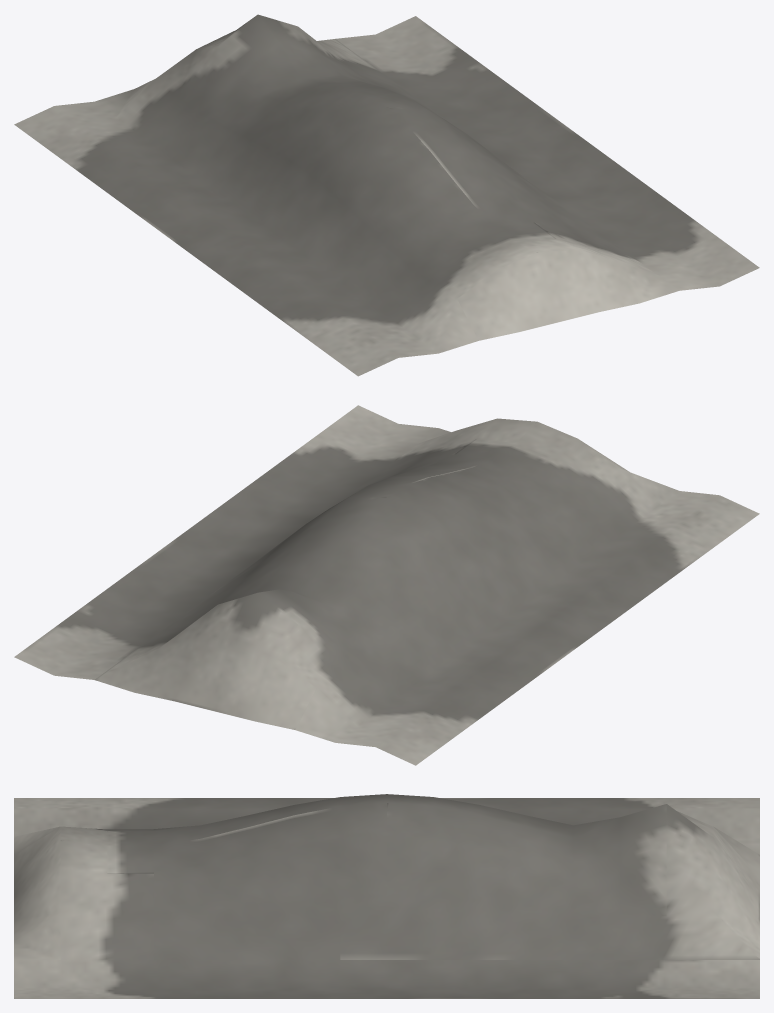
Rendered from burial_shroud.obj.
3 views of the same model, one above another, from view 1: azimuth 30°, elevation 25°; view 2: azimuth 150°, elevation 25°; view 3: azimuth 270°, elevation 25° (orthographic). The views are drawn at different scales.
Parts seen in each view (by area): view 1: part0; view 2: part0; view 3: part0.
Boxes of the visible parts, x1,y1,x2,y2 form: part0: (14, 14, 759, 376); part0: (14, 405, 759, 765); part0: (14, 794, 759, 998).
Size of the model in its own units: 0.62 by 0.1378 by 0.92.
